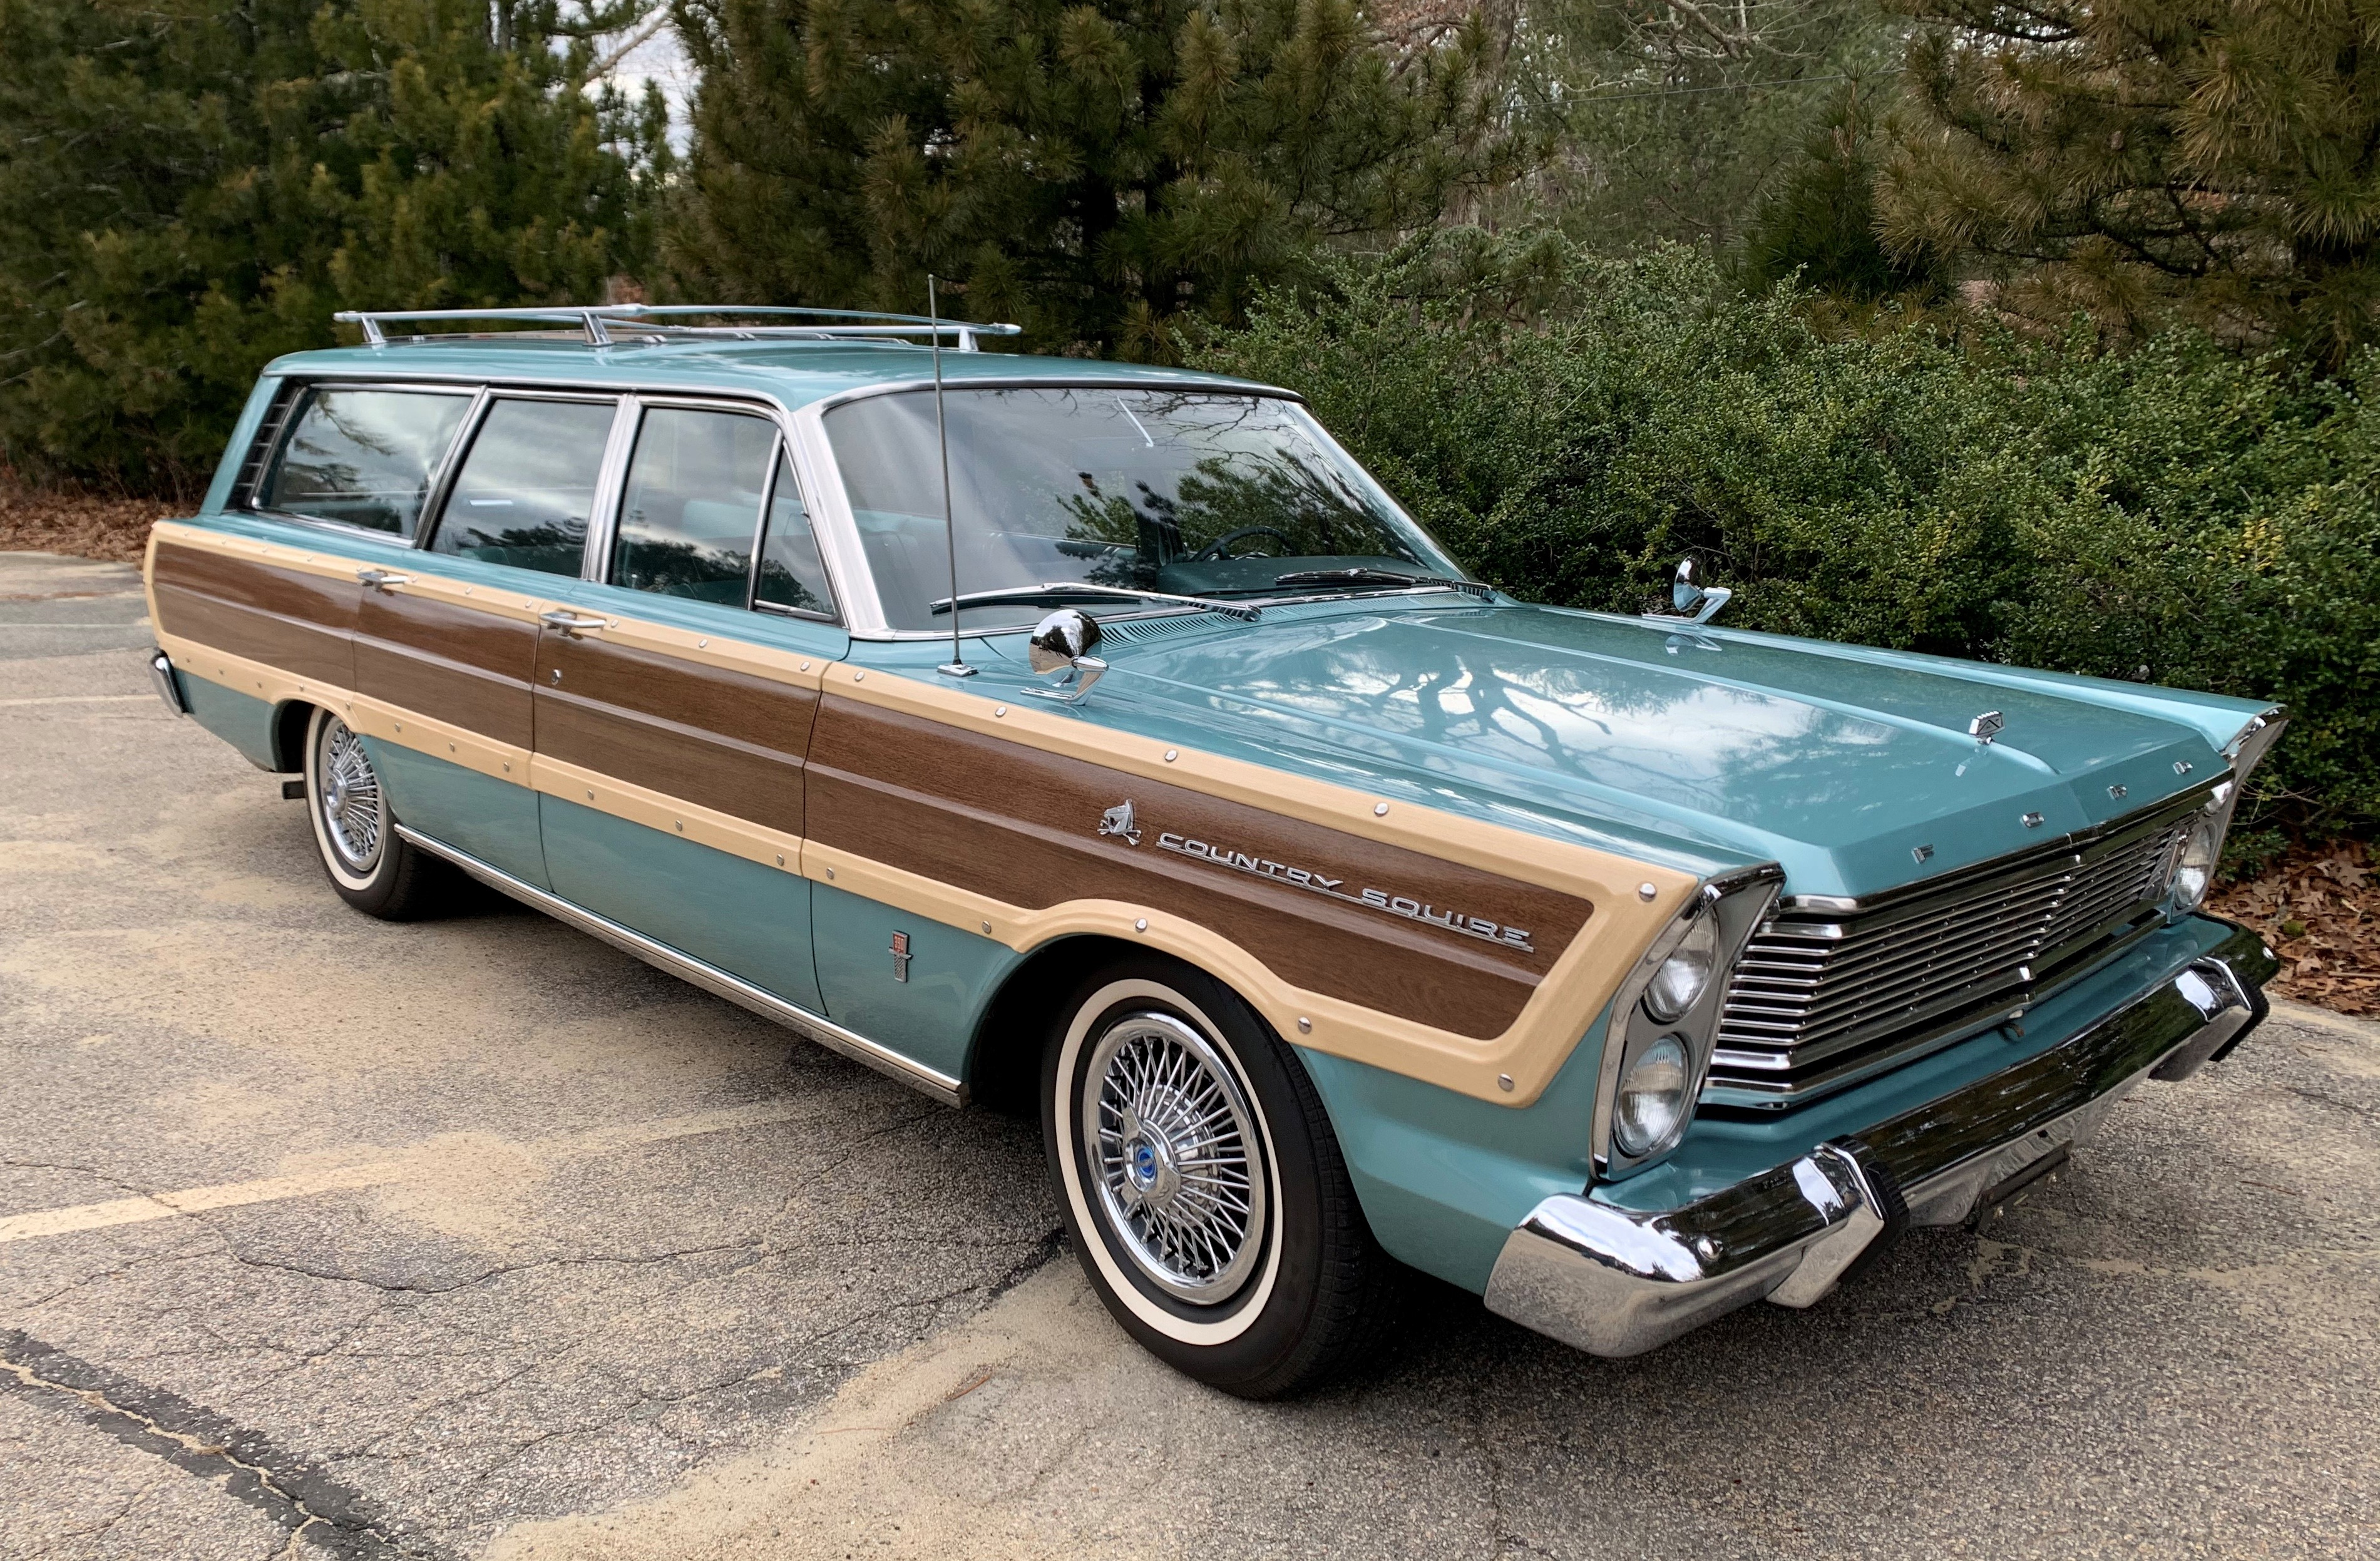car: (143, 305, 2291, 1409)
